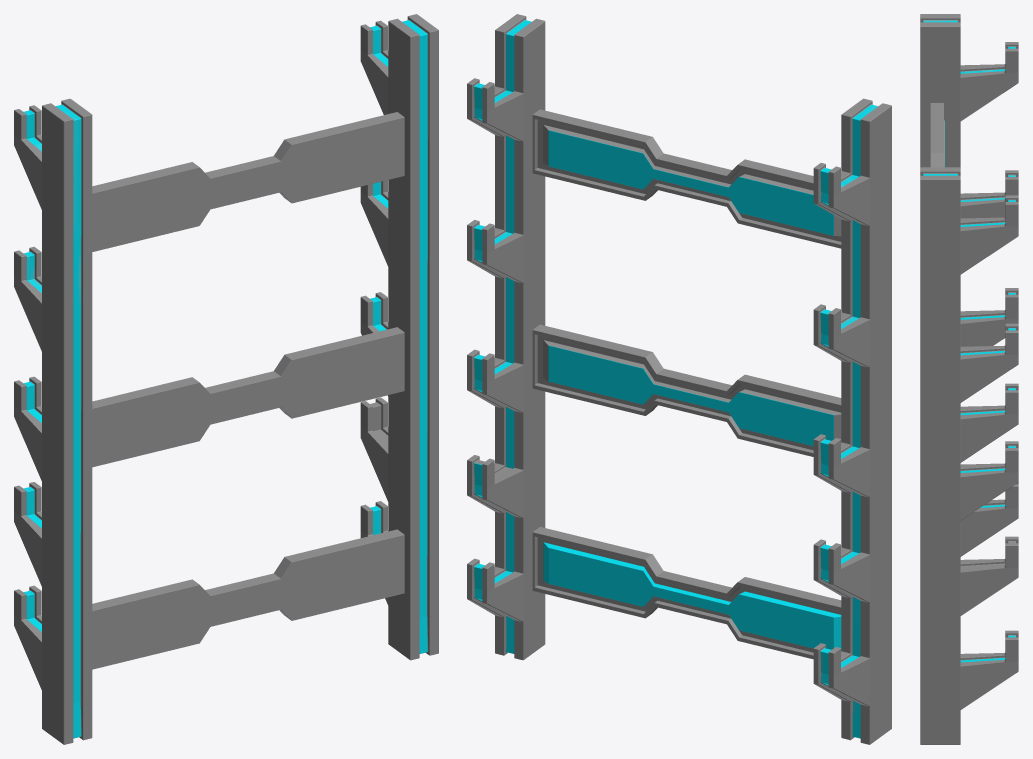
Rendered from SM_Shipment_02.fbx.
3 renders of one model, left to right at view 1: azimuth 30°, elevation 25°; view 2: azimuth 150°, elevation 25°; view 3: azimuth 270°, elevation 25°, orthographic. The views are drawn at different scales.
Parts seen in each view (by area): view 1: SM_Shipment_02; view 2: SM_Shipment_02; view 3: SM_Shipment_02.
Part boxes in pixels (x1=…): SM_Shipment_02: x1=14, y1=14, x2=438, y2=744; SM_Shipment_02: x1=467, y1=14, x2=891, y2=744; SM_Shipment_02: x1=920, y1=14, x2=1018, y2=744.
Bounding box in the file's own units: 85.67 × 21.38 × 136.
1 material, 1 textured.
